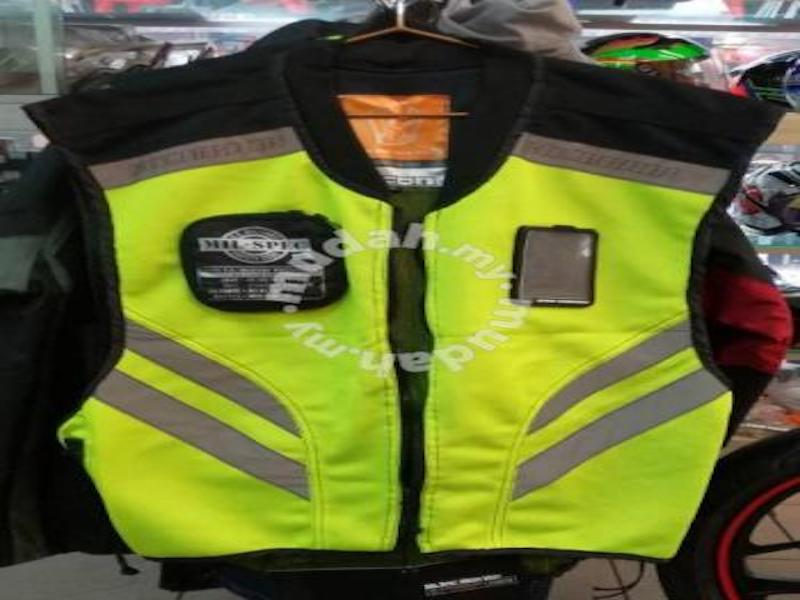vest: (96, 57, 771, 587)
